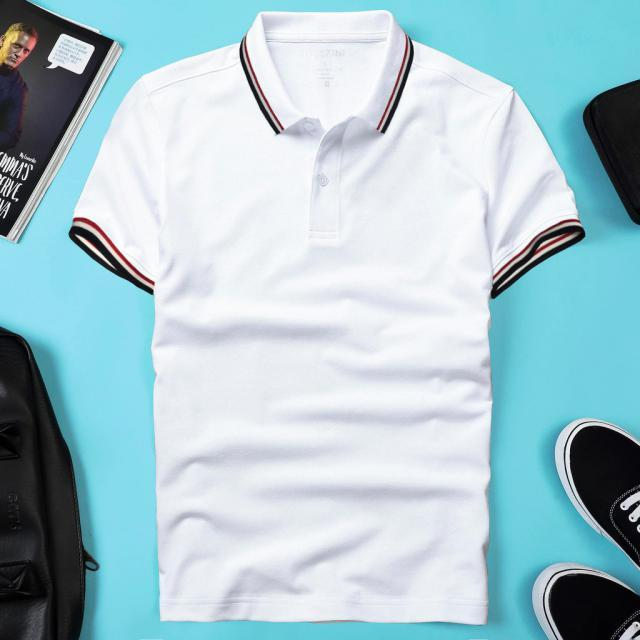Shirt: (64, 8, 588, 630)
